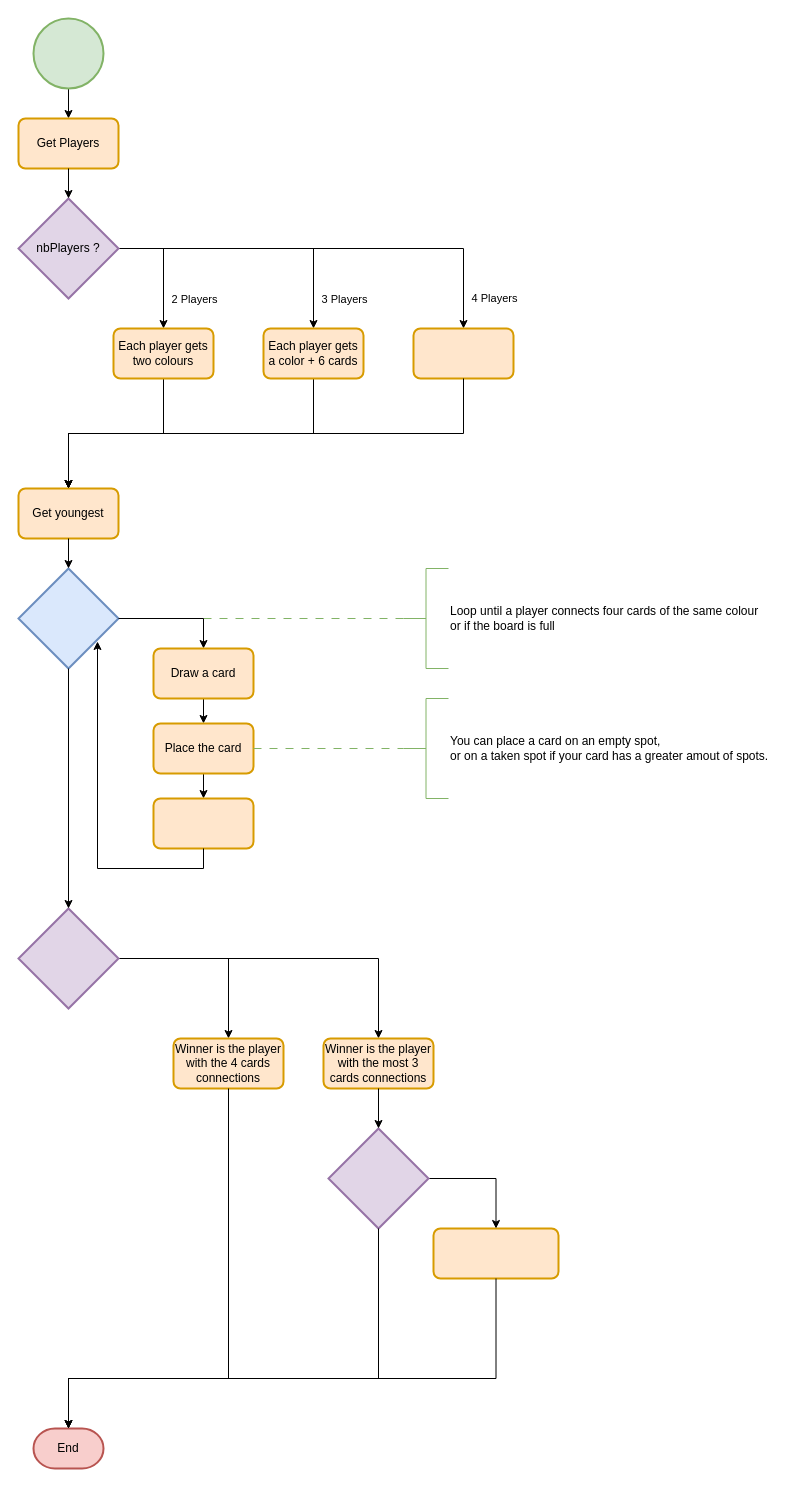
The diagram is 785 pixels wide and 1486 high, and some of its shapes have lost their labels. The centre of each missing label's shape, as x and y in pixels:
Each player gets a colour: pixel 463 353
End condition ?: pixel 68 958
Next Player: pixel 203 823
Start: pixel 68 53
Tie ?: pixel 378 1178
Winner is the player with the less dots in the tie: pixel 495 1253
